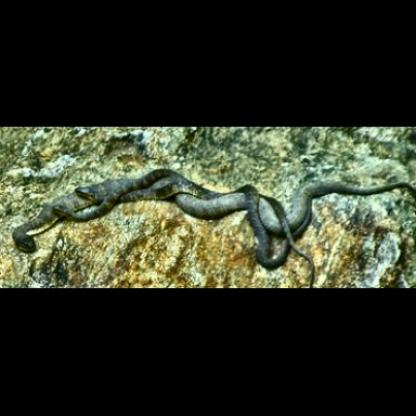Snake: (12, 166, 413, 269)
